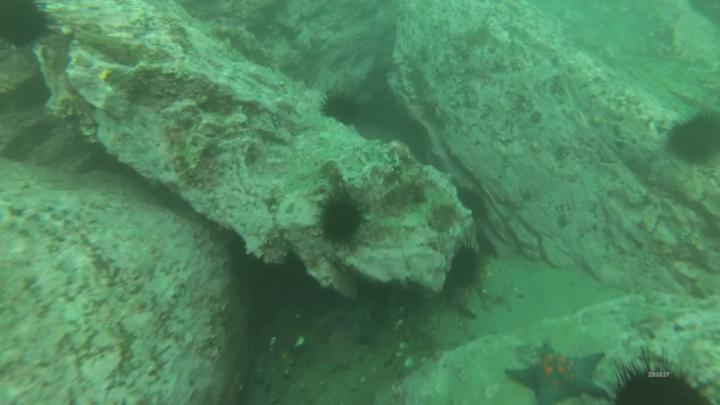echinus: (615, 371, 711, 405), (675, 113, 720, 163), (1, 1, 45, 46), (321, 202, 360, 243), (453, 247, 480, 292), (322, 96, 359, 123)
starfish: (504, 343, 610, 405)
